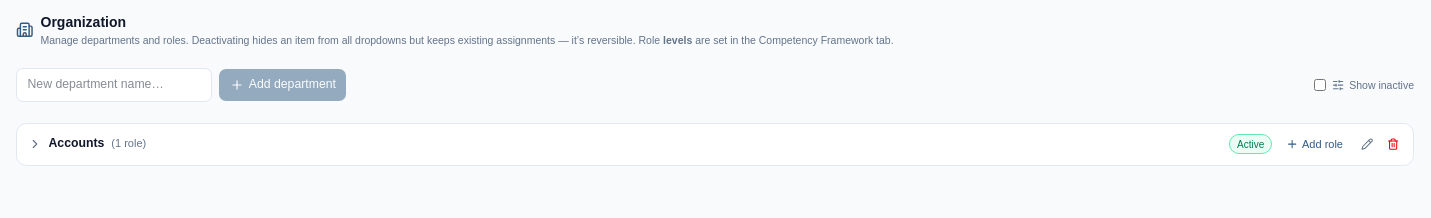
OrganizationTab › renders departments and reveals roles (with a read-only level badge) on expand
Expected: the text "Executive" is not shown
Click the button "Accounts(1 role)" at [76, 143], box [48, 135, 1222, 153]
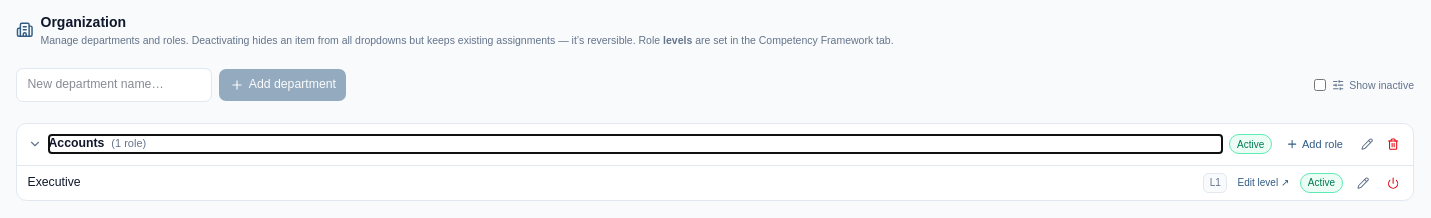
Expected: the text "Executive" is shown, [28, 175, 81, 189]
Expected: the text "L1" is shown, [1203, 172, 1227, 193]
